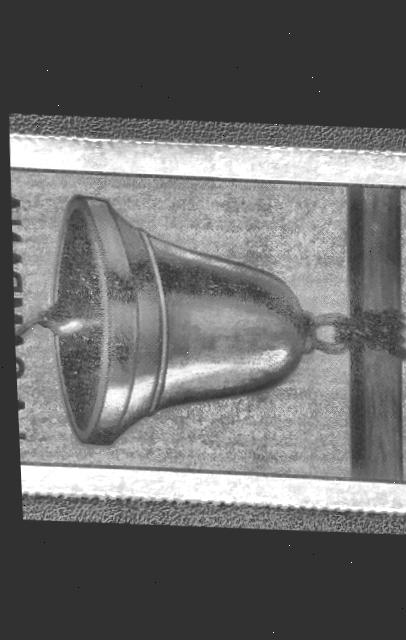La Campana: (5, 155, 406, 502)
